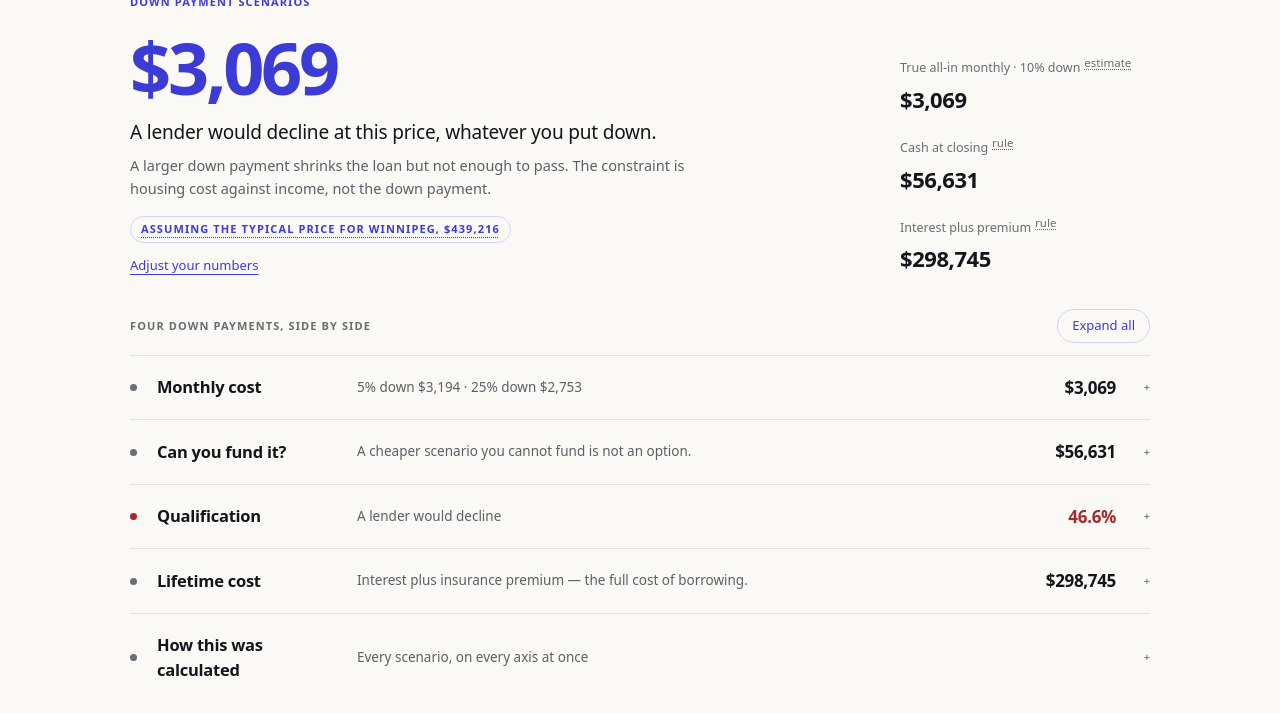
it: Scenarios — four columns, one recommendation › raises a below-minimum column to the legal floor and labels it
The width and height of the screenshot is (1280, 713).
Click the button "Monthly cost 5% down $3,194 · 25% down $2,753 $3,069 +" at (209, 387), box [130, 356, 1150, 419]
(page scrolled)
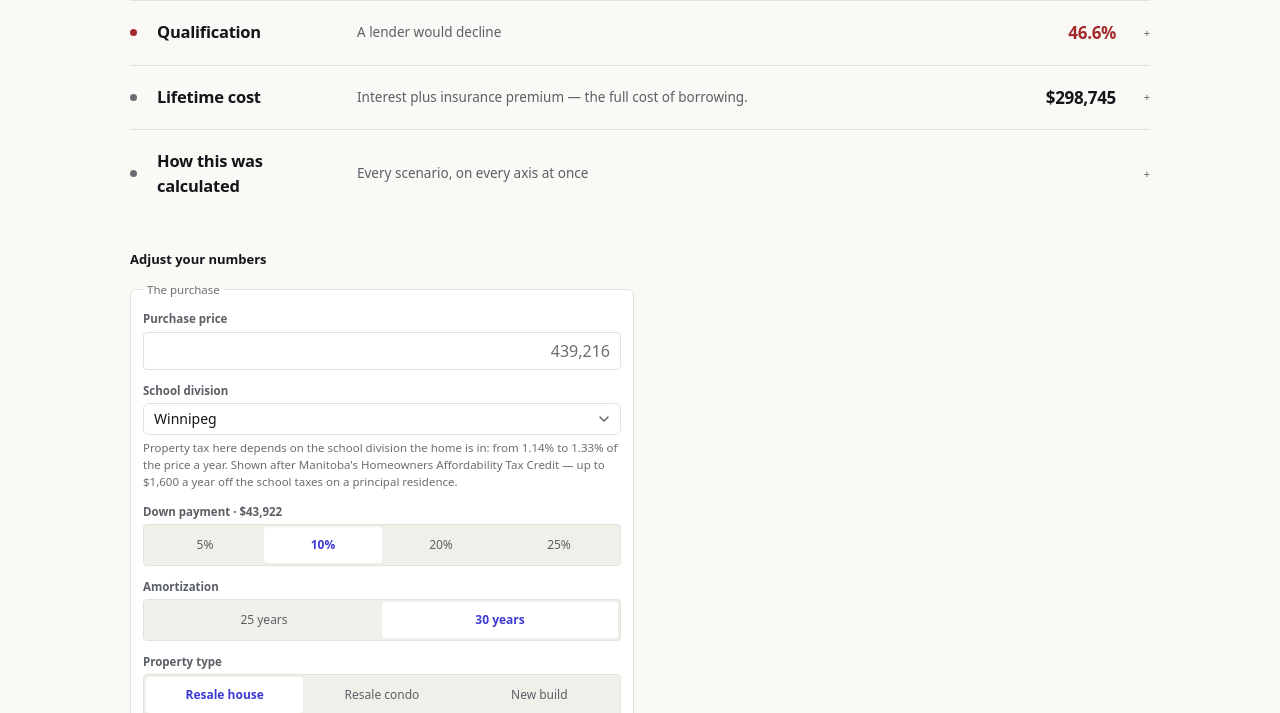
Expected: the text "Below the legal minimum" is not shown
Type "900000" into the field labelled "Purchase price" at (382, 351), box [143, 332, 621, 370]
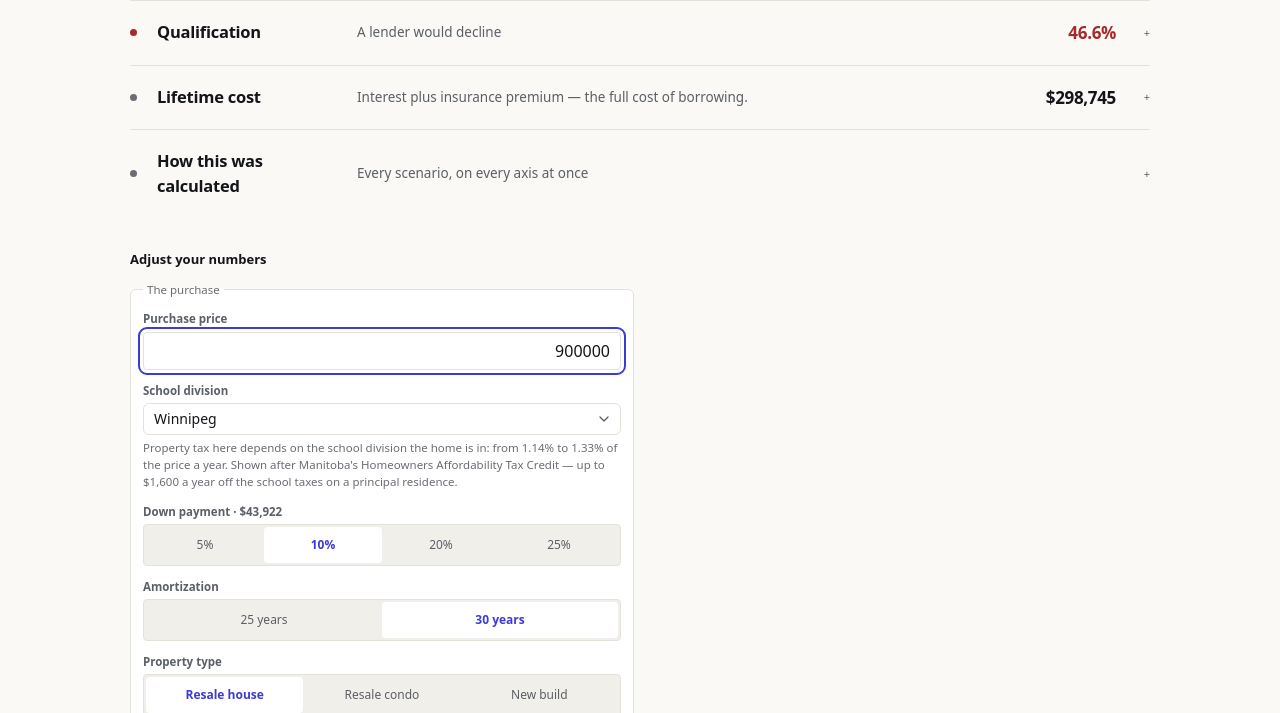
Press Tab
(page scrolled)
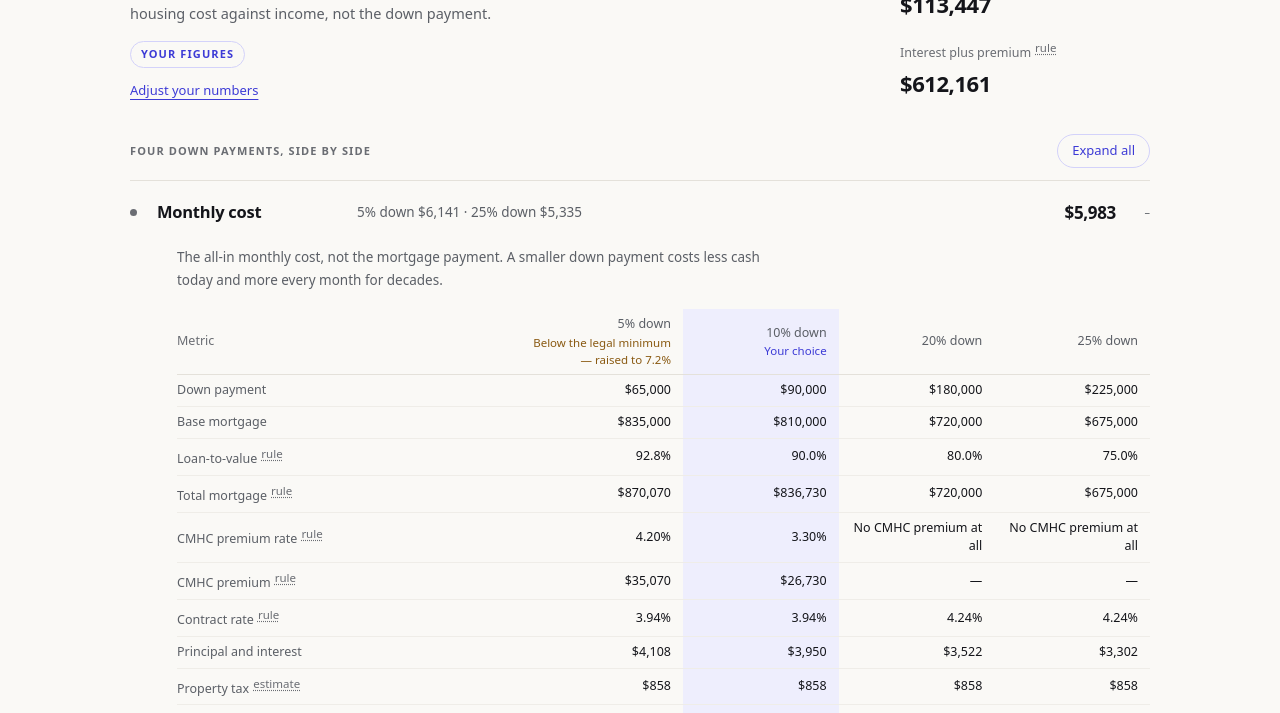
Expected: the text "Below the legal minimum — raised to 7.2%" is shown, [527, 334, 671, 368]
